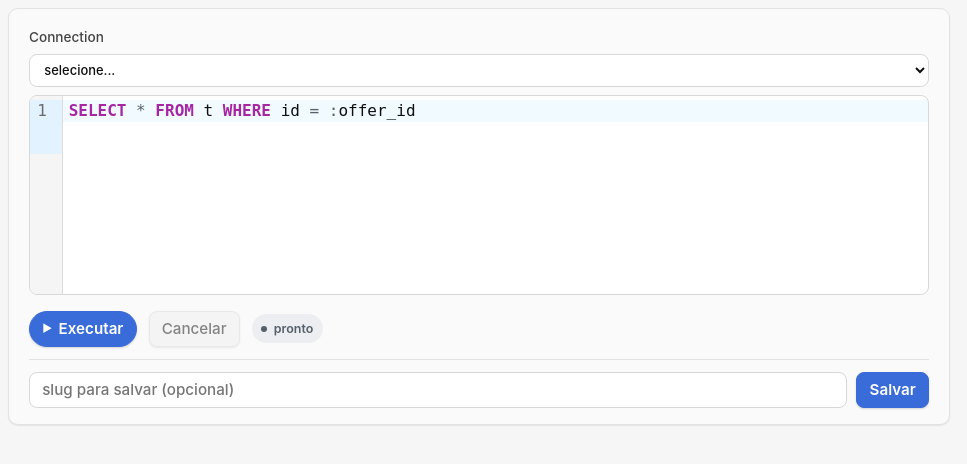
Scenario: AdhocQueryBlock › extracts params once a connection is picked for already-typed SQL, debounced
Select "Postgres Local (queryboard_local)" in the dropdown labelled "Connection" at point(479, 70), box left=29, top=54, right=929, bottom=87
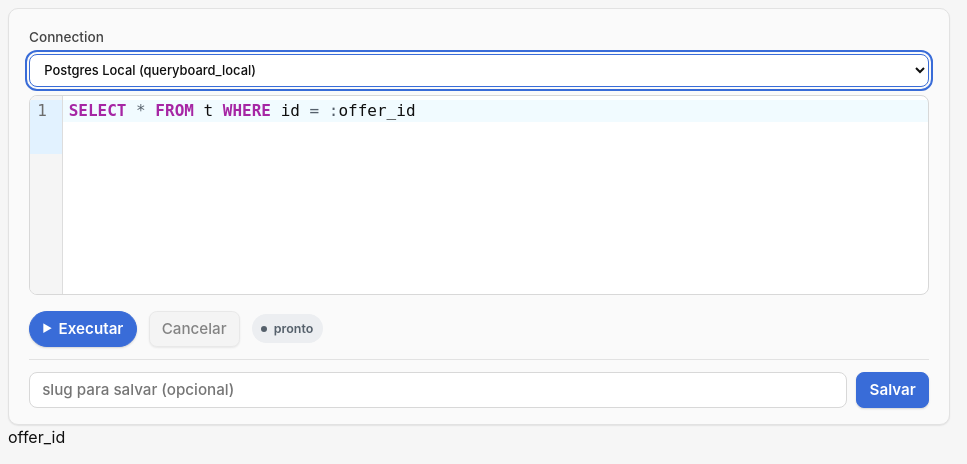
Expected: the text with test id "extracted-params" reads "offer_id", left=8, top=427, right=65, bottom=447
